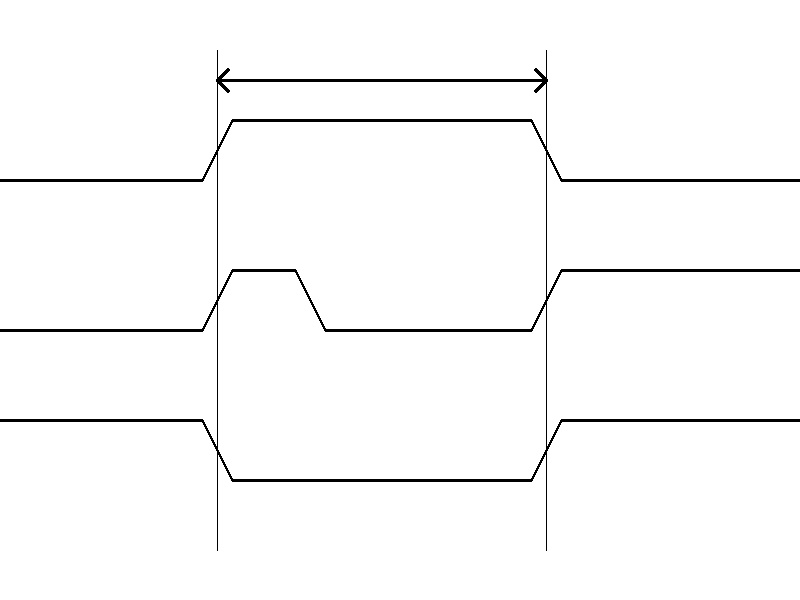double_arrow: (217, 65, 546, 95)
